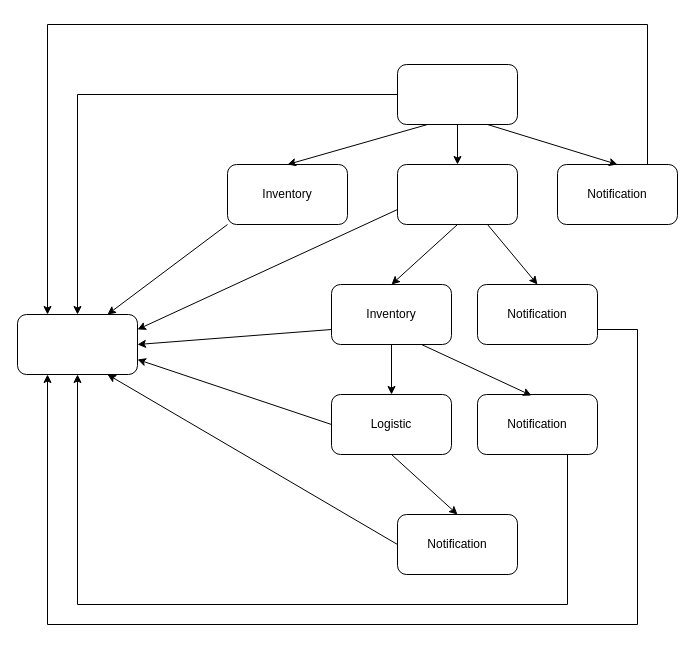
Image size: 695x650. Some labels were removed from this diagram. Here are the shapes that lost their labels. From the top down, the box of each, then its label:
(396, 64, 518, 124): Order
(396, 164, 518, 224): Payment
(16, 314, 138, 374): Log
